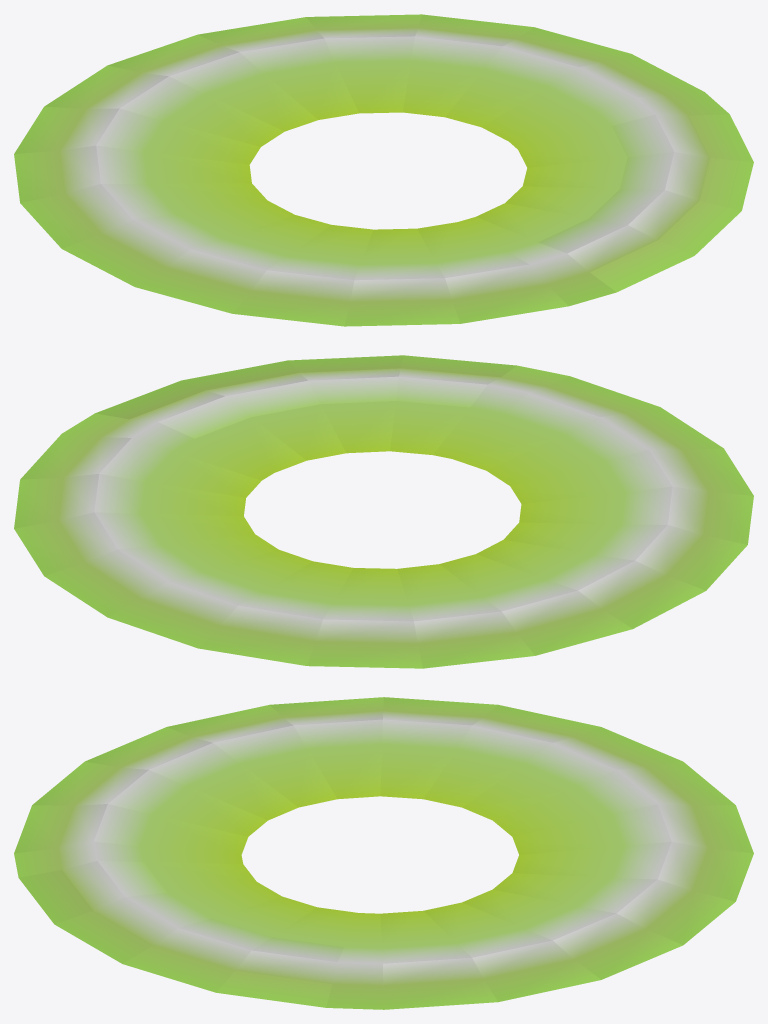
The model's file is mod_huan001.FBX.
3 renders of one model, top to bottom at view 1: azimuth 30°, elevation 25°; view 2: azimuth 150°, elevation 25°; view 3: azimuth 270°, elevation 25°, orthographic.
Visible parts, largest first — view 1: mod_huan001; view 2: mod_huan001; view 3: mod_huan001.
Boxes of the visible parts, bbox=[...] form: mod_huan001: bbox=[14, 14, 753, 326]; mod_huan001: bbox=[14, 355, 753, 668]; mod_huan001: bbox=[14, 697, 753, 1009].
Bounding box in the file's own units: 469 × 8.59 × 469.
